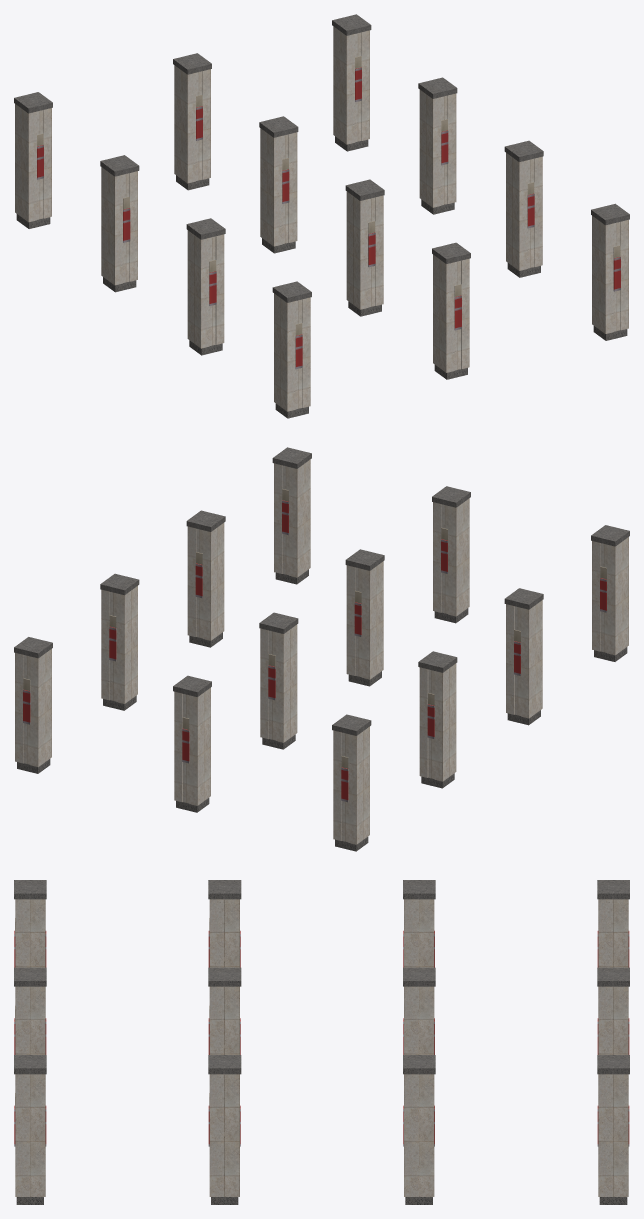
File: Subway01_InterCalumn.FBX
3 renders of one model, top to bottom at view 1: azimuth 30°, elevation 25°; view 2: azimuth 150°, elevation 25°; view 3: azimuth 270°, elevation 25°, orthographic. The views are drawn at different scales.
Parts seen in each view (by area): view 1: Subway01_InterCalumn01, Subway01_InterCalumn02, Subway01_InterCalumnDecor, Subway01_InterCalumnLight; view 2: Subway01_InterCalumn01, Subway01_InterCalumn02, Subway01_InterCalumnDecor, Subway01_InterCalumnLight; view 3: Subway01_InterCalumn01, Subway01_InterCalumn02, Subway01_InterCalumnDecor.
Part boxes in pixels (x1,y1,x2,y2): Subway01_InterCalumn01: [15, 26, 628, 418]; Subway01_InterCalumn02: [14, 14, 629, 302]; Subway01_InterCalumnDecor: [37, 67, 620, 369]; Subway01_InterCalumnLight: [37, 56, 620, 335]; Subway01_InterCalumn01: [15, 459, 628, 851]; Subway01_InterCalumn02: [14, 447, 629, 735]; Subway01_InterCalumnDecor: [23, 500, 606, 802]; Subway01_InterCalumnLight: [23, 489, 606, 768]; Subway01_InterCalumn01: [15, 899, 628, 1204]; Subway01_InterCalumn02: [14, 880, 629, 1074]; Subway01_InterCalumnDecor: [14, 930, 629, 1146].
Size of the model in its own units: 17661 by 6005 by 24407.
